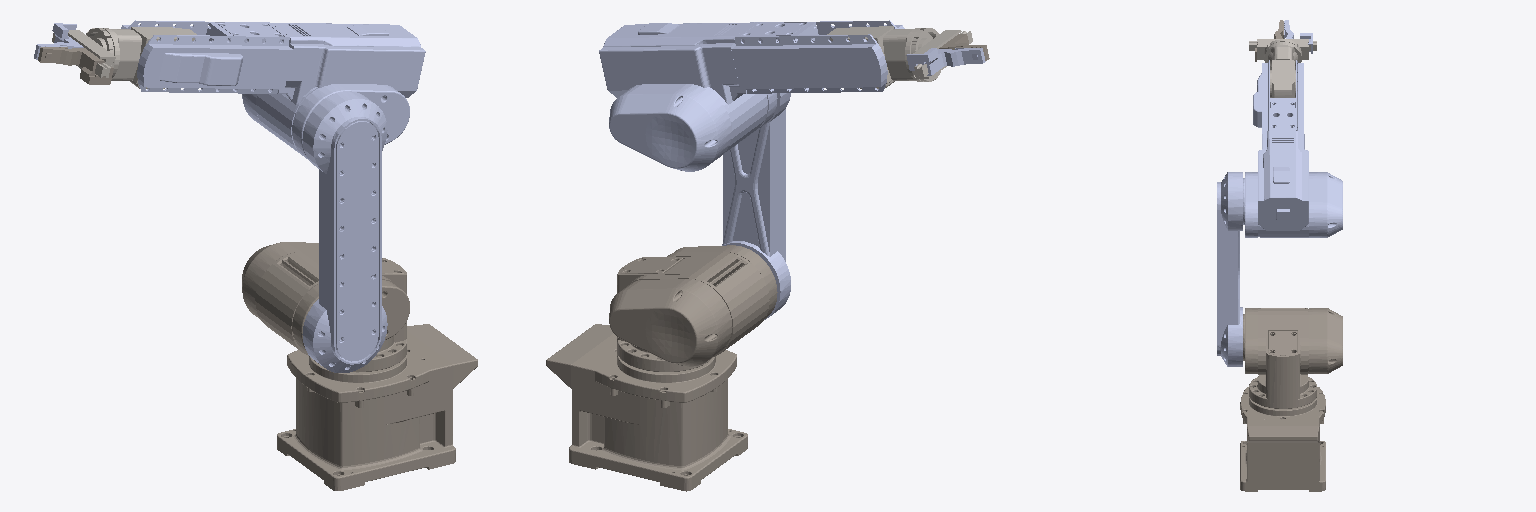
URDF robot description (movable step 5.SLDASM):
<?xml version="1.0" encoding="utf-8"?>
<!-- This URDF was automatically created by SolidWorks to URDF Exporter! Originally created by [author] ([email redacted]) 
     Commit Version: 1.6.0-4-g7f85cfe  Build Version: 1.6.7995.38578
     For more information, please see http://wiki.ros.org/sw_urdf_exporter -->
<robot
  name="movable step 5.SLDASM">
  <link
    name="base_link">
    <inertial>
      <origin
        xyz="0.09345 0.1132 0.23453"
        rpy="0 0 0" />
      <mass
        value="6.3881" />
      <inertia
        ixx="0.032681"
        ixy="-0.002067"
        ixz="5.7312E-07"
        iyy="0.042843"
        iyz="6.0286E-07"
        izz="0.044253" />
    </inertial>
    <visual>
      <origin
        xyz="0 0 0"
        rpy="0 0 0" />
      <geometry>
        <mesh
          filename="package://movable step 5.SLDASM/meshes/base_link.STL" />
      </geometry>
      <material
        name="">
        <color
          rgba="0.65098 0.61961 0.58824 1" />
      </material>
    </visual>
    <collision>
      <origin
        xyz="0 0 0"
        rpy="0 0 0" />
      <geometry>
        <mesh
          filename="package://movable step 5.SLDASM/meshes/base_link.STL" />
      </geometry>
    </collision>
  </link>
  <link
    name="link_1">
    <inertial>
      <origin
        xyz="-0.045911 -0.032765 -0.014889"
        rpy="0 0 0" />
      <mass
        value="6.1423" />
      <inertia
        ixx="0.016194"
        ixy="0.0044536"
        ixz="4.2666E-05"
        iyy="0.024485"
        iyz="-6.9893E-07"
        izz="0.030171" />
    </inertial>
    <visual>
      <origin
        xyz="0 0 0"
        rpy="0 0 0" />
      <geometry>
        <mesh
          filename="package://movable step 5.SLDASM/meshes/link_1.STL" />
      </geometry>
      <material
        name="">
        <color
          rgba="0.65098 0.61961 0.58824 1" />
      </material>
    </visual>
    <collision>
      <origin
        xyz="0 0 0"
        rpy="0 0 0" />
      <geometry>
        <mesh
          filename="package://movable step 5.SLDASM/meshes/link_1.STL" />
      </geometry>
    </collision>
  </link>
  <joint
    name="joint_1"
    type="revolute">
    <origin
      xyz="0.068217 -0.23453 0.33344"
      rpy="1.5708 0 0" />
    <parent
      link="base_link" />
    <child
      link="link_1" />
    <axis
      xyz="0 0 0" />
    <limit
      lower="0"
      upper="3.142"
      effort="300"
      velocity="3" />
  </joint>
  <link
    name="link_2">
    <inertial>
      <origin
        xyz="0.15453 -0.00041643 0.12231"
        rpy="0 0 0" />
      <mass
        value="2.4828" />
      <inertia
        ixx="0.0026179"
        ixy="-2.4043E-06"
        ixz="-0.00046024"
        iyy="0.049783"
        iyz="-6.298E-06"
        izz="0.051734" />
    </inertial>
    <visual>
      <origin
        xyz="0 0 0"
        rpy="0 0 0" />
      <geometry>
        <mesh
          filename="package://movable step 5.SLDASM/meshes/link_2.STL" />
      </geometry>
      <material
        name="">
        <color
          rgba="0.79216 0.81961 0.93333 1" />
      </material>
    </visual>
    <collision>
      <origin
        xyz="0 0 0"
        rpy="0 0 0" />
      <geometry>
        <mesh
          filename="package://movable step 5.SLDASM/meshes/link_2.STL" />
      </geometry>
    </collision>
  </link>
  <joint
    name="joint_2"
    type="revolute">
    <origin
      xyz="-0.089983 0.31394 0.0041147"
      rpy="-0.0030093 0.0096985 -1.5708" />
    <parent
      link="link_1" />
    <child
      link="link_2" />
    <axis
      xyz="0 0 0" />
    <limit
      lower="-1.57"
      upper="1.57"
      effort="200"
      velocity="3" />
  </joint>
  <link
    name="link_3">
    <inertial>
      <origin
        xyz="-0.052519 0.32111 -0.013571"
        rpy="0 0 0" />
      <mass
        value="7.0229" />
      <inertia
        ixx="0.021687"
        ixy="-0.00010429"
        ixz="-0.00016471"
        iyy="0.032302"
        iyz="-2.1722E-05"
        izz="0.041772" />
    </inertial>
    <visual>
      <origin
        xyz="0 0 0"
        rpy="0 0 0" />
      <geometry>
        <mesh
          filename="package://movable step 5.SLDASM/meshes/link_3.STL" />
      </geometry>
      <material
        name="">
        <color
          rgba="0.79216 0.81961 0.93333 1" />
      </material>
    </visual>
    <collision>
      <origin
        xyz="0 0 0"
        rpy="0 0 0" />
      <geometry>
        <mesh
          filename="package://movable step 5.SLDASM/meshes/link_3.STL" />
      </geometry>
    </collision>
  </link>
  <joint
    name="joint_3"
    type="revolute">
    <origin
      xyz="0.27399 0.090224 -0.001186"
      rpy="-0.009701 0.0071523 1.5715" />
    <parent
      link="link_2" />
    <child
      link="link_3" />
    <axis
      xyz="0 0 0" />
    <limit
      lower="0"
      upper="3.142"
      effort="200"
      velocity="3" />
  </joint>
  <link
    name="link_4">
    <inertial>
      <origin
        xyz="-0.0059649 0.096397 0.0031997"
        rpy="0 0 0" />
      <mass
        value="1.7584" />
      <inertia
        ixx="0.0027145"
        ixy="0.00034109"
        ixz="0.00018562"
        iyy="0.01239"
        iyz="-1.7834E-05"
        izz="0.011347" />
    </inertial>
    <visual>
      <origin
        xyz="0 0 0"
        rpy="0 0 0" />
      <geometry>
        <mesh
          filename="package://movable step 5.SLDASM/meshes/link_4.STL" />
      </geometry>
      <material
        name="">
        <color
          rgba="0.79216 0.81961 0.93333 1" />
      </material>
    </visual>
    <collision>
      <origin
        xyz="0 0 0"
        rpy="0 0 0" />
      <geometry>
        <mesh
          filename="package://movable step 5.SLDASM/meshes/link_4.STL" />
      </geometry>
    </collision>
  </link>
  <joint
    name="joint_4"
    type="revolute">
    <origin
      xyz="-0.2926 0.33613 -0.0027093"
      rpy="0.0024433 -0.0098563 -0.243" />
    <parent
      link="link_3" />
    <child
      link="link_4" />
    <axis
      xyz="0 0 0" />
    <limit
      lower="0"
      upper="-3.142"
      effort="200"
      velocity="3" />
  </joint>
  <link
    name="link_5">
    <inertial>
      <origin
        xyz="-0.22024 0.074495 -4.2359E-10"
        rpy="0 0 0" />
      <mass
        value="0.76569" />
      <inertia
        ixx="0.00075131"
        ixy="-2.1319E-05"
        ixz="7.688E-12"
        iyy="0.00091571"
        iyz="3.2639E-06"
        izz="0.00098614" />
    </inertial>
    <visual>
      <origin
        xyz="0 0 0"
        rpy="0 0 0" />
      <geometry>
        <mesh
          filename="package://movable step 5.SLDASM/meshes/link_5.STL" />
      </geometry>
      <material
        name="">
        <color
          rgba="0.77647 0.75686 0.73725 1" />
      </material>
    </visual>
    <collision>
      <origin
        xyz="0 0 0"
        rpy="0 0 0" />
      <geometry>
        <mesh
          filename="package://movable step 5.SLDASM/meshes/link_5.STL" />
      </geometry>
    </collision>
  </link>
  <joint
    name="joint_5"
    type="revolute">
    <origin
      xyz="-0.38261 0.17115 0"
      rpy="0 0 3.1416" />
    <parent
      link="link_4" />
    <child
      link="link_5" />
    <axis
      xyz="0 0 0" />
    <limit
      lower="0"
      upper="3.142"
      effort="200"
      velocity="3" />
  </joint>
  <link
    name="link_6">
    <inertial>
      <origin
        xyz="-0.94793 0.138 -0.11556"
        rpy="0 0 0" />
      <mass
        value="0.045658" />
      <inertia
        ixx="2.342E-05"
        ixy="2.4694E-06"
        ixz="-1.3673E-05"
        iyy="4.2748E-05"
        iyz="4.3527E-06"
        izz="2.8506E-05" />
    </inertial>
    <visual>
      <origin
        xyz="0 0 0"
        rpy="0 0 0" />
      <geometry>
        <mesh
          filename="package://movable step 5.SLDASM/meshes/link_6.STL" />
      </geometry>
      <material
        name="">
        <color
          rgba="0.65098 0.61961 0.58824 1" />
      </material>
    </visual>
    <collision>
      <origin
        xyz="0 0 0"
        rpy="0 0 0" />
      <geometry>
        <mesh
          filename="package://movable step 5.SLDASM/meshes/link_6.STL" />
      </geometry>
    </collision>
  </link>
  <joint
    name="joint_6"
    type="prismatic">
    <origin
      xyz="-1.0469 0.21449 0.13909"
      rpy="0 0 -3.1416" />
    <parent
      link="link_5" />
    <child
      link="link_6" />
    <axis
      xyz="0 0 0" />
    <limit
      lower="-0.04"
      upper="0"
      effort="200"
      velocity="3" />
  </joint>
  <link
    name="link_7">
    <inertial>
      <origin
        xyz="1.2861 0.48709 -1.8186"
        rpy="0 0 0" />
      <mass
        value="0.045658" />
      <inertia
        ixx="1.8653E-05"
        ixy="3.2271E-06"
        ixz="1.1831E-05"
        iyy="4.2748E-05"
        iyz="-3.8249E-06"
        izz="3.3273E-05" />
    </inertial>
    <visual>
      <origin
        xyz="0 0 0"
        rpy="0 0 0" />
      <geometry>
        <mesh
          filename="package://movable step 5.SLDASM/meshes/link_7.STL" />
      </geometry>
      <material
        name="">
        <color
          rgba="0.79216 0.81961 0.93333 1" />
      </material>
    </visual>
    <collision>
      <origin
        xyz="0 0 0"
        rpy="0 0 0" />
      <geometry>
        <mesh
          filename="package://movable step 5.SLDASM/meshes/link_7.STL" />
      </geometry>
    </collision>
  </link>
  <joint
    name="joint_7"
    type="prismatic">
    <origin
      xyz="-1.029 0.55684 -2.0525"
      rpy="3.1416 -0.18479 0" />
    <parent
      link="link_5" />
    <child
      link="link_7" />
    <axis
      xyz="0 0 0" />
    <limit
      lower="0"
      upper="0.04"
      effort="200"
      velocity="3" />
  </joint>
</robot>

--- Render facts (derived) ---
The picture shows the robot from 3 angles, left to right: view 1: azimuth 30°, elevation 25°; view 2: azimuth 150°, elevation 25°; view 3: azimuth 270°, elevation 25°; orthographic projection.
Model movable step 5.SLDASM with 8 links and 7 joints (5 revolute, 2 prismatic), rooted at base_link, posed all joints at 0.
Visible links, largest first — view 1: base_link, link_2, link_3, link_4, link_1, link_5, link_6, link_7; view 2: base_link, link_3, link_1, link_4, link_2, link_5, link_7; view 3: link_1, link_3, base_link, link_2, link_4, link_5.
Link boxes in pixels (bbox=[...]): base_link: bbox=[277, 324, 477, 490]; link_2: bbox=[302, 91, 387, 372]; link_3: bbox=[242, 23, 425, 159]; link_4: bbox=[121, 20, 292, 93]; link_1: bbox=[242, 242, 409, 371]; link_5: bbox=[52, 27, 196, 88]; link_6: bbox=[38, 47, 113, 84]; link_7: bbox=[34, 23, 83, 59]; base_link: bbox=[546, 324, 747, 491]; link_3: bbox=[599, 22, 777, 171]; link_1: bbox=[609, 245, 777, 371]; link_4: bbox=[731, 20, 904, 93]; link_2: bbox=[722, 93, 790, 319]; link_5: bbox=[827, 26, 972, 88]; link_7: bbox=[906, 48, 985, 75]; link_1: bbox=[1243, 308, 1342, 408]; link_3: bbox=[1243, 130, 1342, 237]; base_link: bbox=[1240, 387, 1325, 491]; link_2: bbox=[1217, 172, 1242, 366]; link_4: bbox=[1253, 60, 1303, 133]; link_5: bbox=[1249, 39, 1316, 97].
Size in the robot's own frame: 0.7833 by 0.295 by 0.8812 metres.
8 mesh visuals loaded from 8 distinct referenced files (8 binary STL).